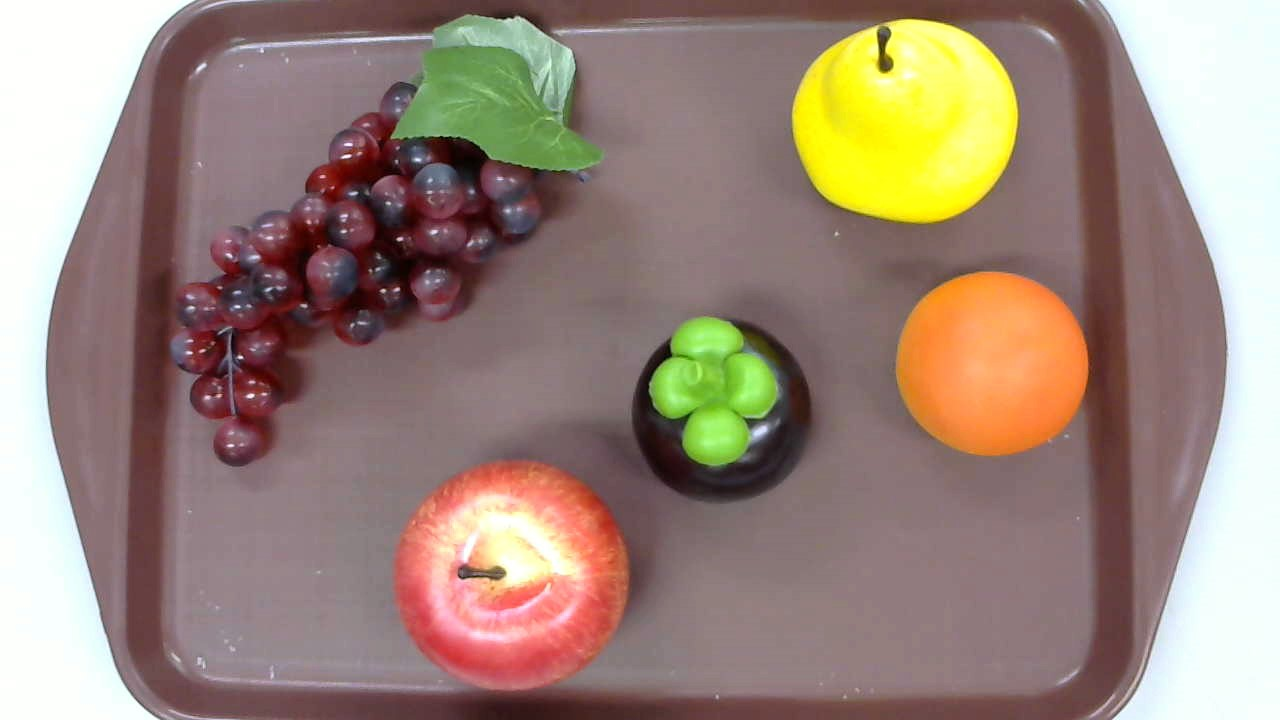bun: (895, 270, 1088, 457)
grape: (169, 13, 603, 464)
mangosteen: (632, 315, 811, 505)
red apple: (393, 457, 630, 691)
yellow pear: (791, 16, 1017, 223)
